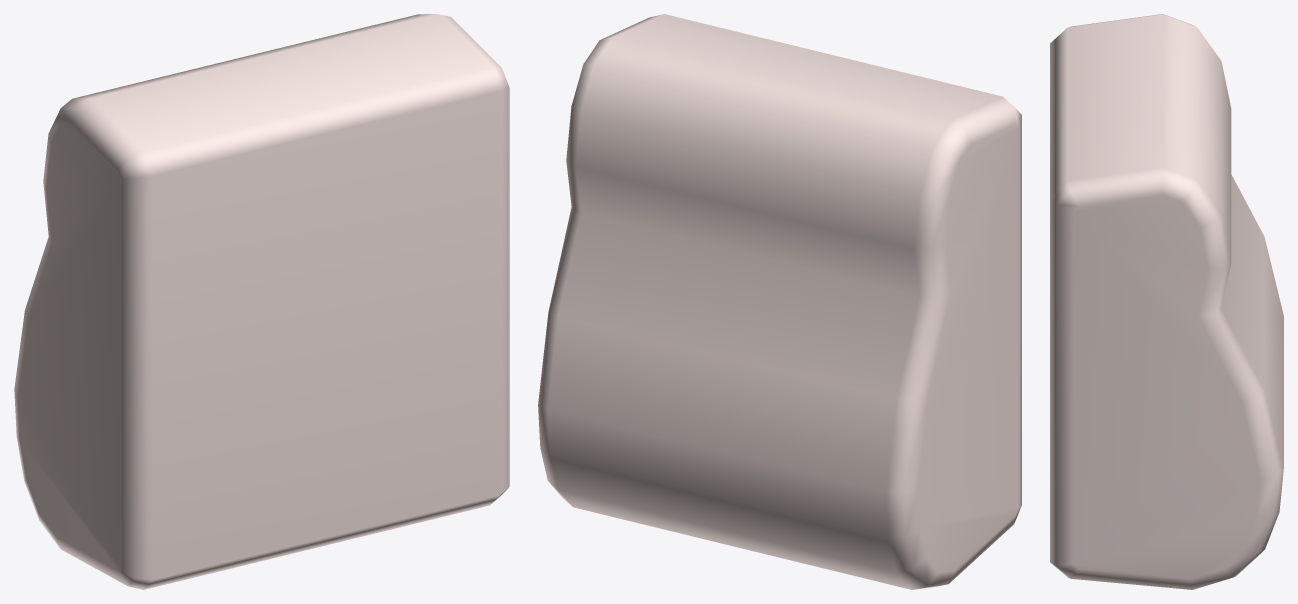
File: floor-cushion.glb
3 renders of one model, left to right at view 1: azimuth 30°, elevation 25°; view 2: azimuth 150°, elevation 25°; view 3: azimuth 270°, elevation 25°, orthographic. The views are drawn at different scales.
Parts seen in each view (by area): view 1: ottoman_013; view 2: ottoman_013; view 3: ottoman_013.
Boxes of the visible parts, left/top/right/bottom form: ottoman_013: left=14, top=14, right=509, bottom=589; ottoman_013: left=538, top=14, right=1021, bottom=589; ottoman_013: left=1050, top=14, right=1283, bottom=589.
Size of the model in its own units: 0.667 by 0.7706 by 0.387.
Materials: 1 (1 with a texture image).
